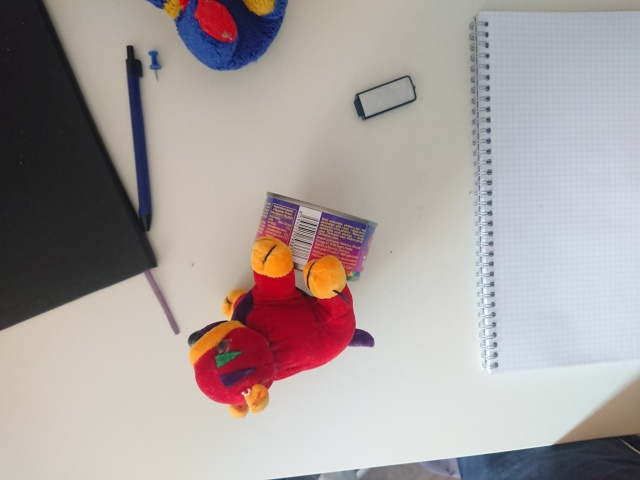Giana Tuna Salad Mexico 185g: (251, 188, 382, 285)
